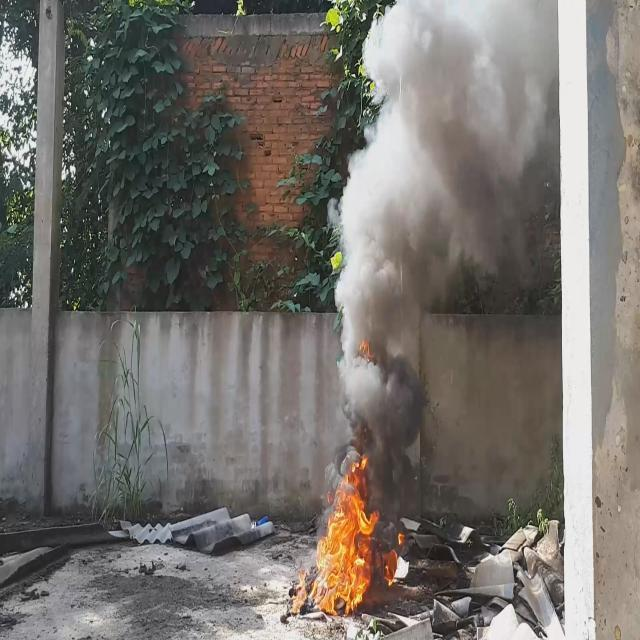Fire: (308, 448, 382, 616)
Smoke: (332, 0, 556, 505)
